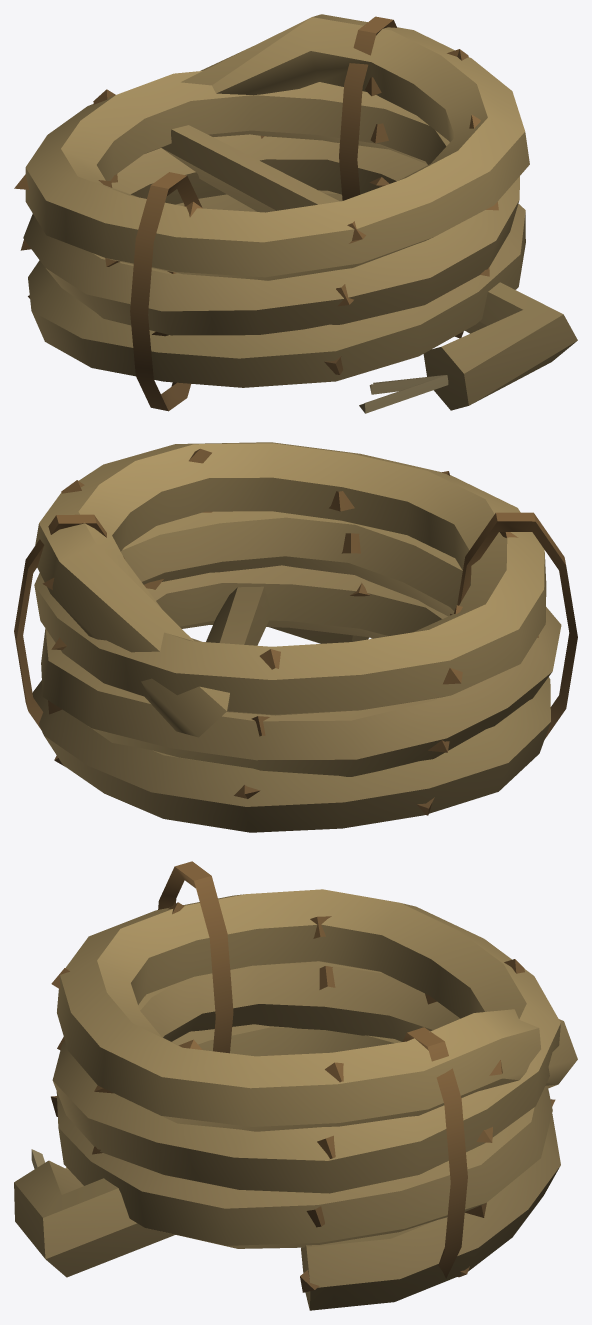
Rendered from 117_rouleau_corde.fbx.
3 views of the same model, one above another, from view 1: azimuth 30°, elevation 25°; view 2: azimuth 150°, elevation 25°; view 3: azimuth 270°, elevation 25° (orthographic). The views are drawn at different scales.
Parts seen in each view (by area): view 1: Corde; view 2: Corde; view 3: Corde.
Part boxes in pixels (<box>): Corde: <box>14,14,577,413</box>; Corde: <box>14,442,577,832</box>; Corde: <box>14,861,577,1310</box>.
Bounding box in the file's own units: 0.336 × 0.168 × 0.336.
Materials: 1 (1 with a texture image).
